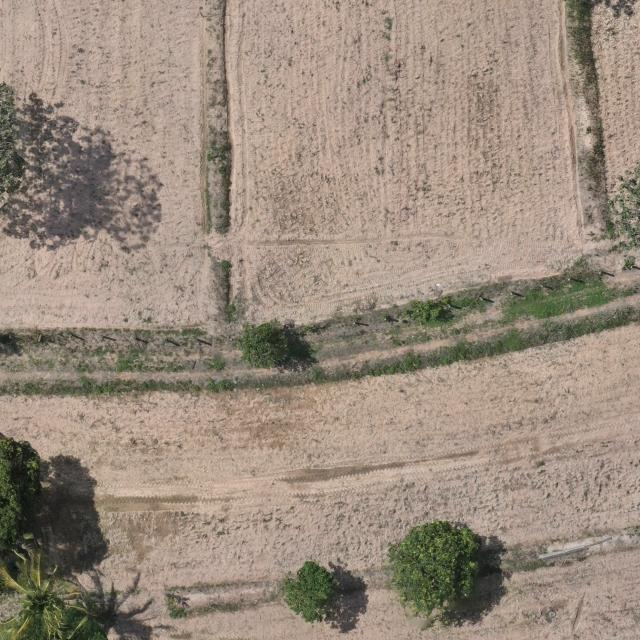Tree: (385, 518, 482, 618), (0, 543, 92, 640), (0, 430, 44, 554), (0, 80, 29, 222), (280, 560, 338, 625), (605, 155, 640, 249), (240, 321, 290, 371)
